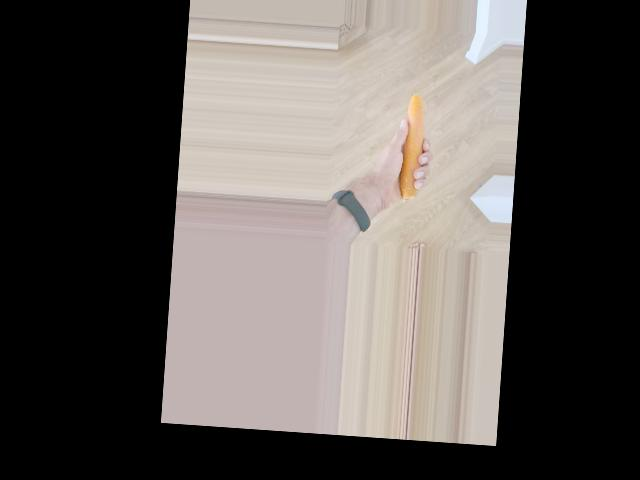carrot: (397, 94, 426, 203)
